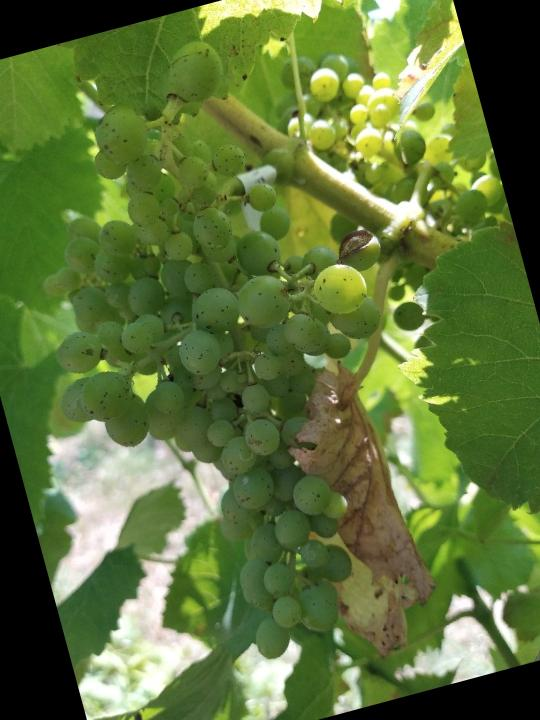grape: (0, 5, 480, 698)
